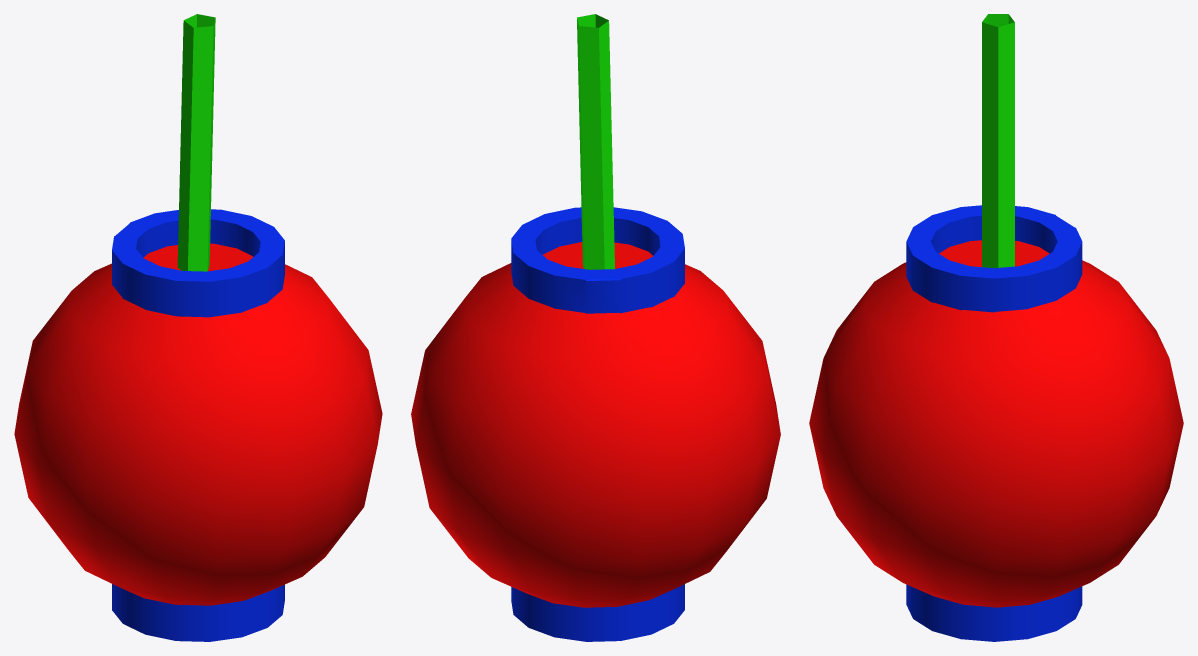
Rendered from Lantern_3.fbx.
3 views of the same model, side by side, from view 1: azimuth 30°, elevation 25°; view 2: azimuth 150°, elevation 25°; view 3: azimuth 270°, elevation 25° (orthographic).
Visible parts, largest first — view 1: Lantern_3; view 2: Lantern_3; view 3: Lantern_3.
Boxes of the visible parts, x1,y1,x2,y2 form: Lantern_3: [14, 14, 382, 641]; Lantern_3: [411, 14, 780, 641]; Lantern_3: [809, 14, 1183, 641].
Bounding box in the file's own units: 57.49 × 99.39 × 57.49.
